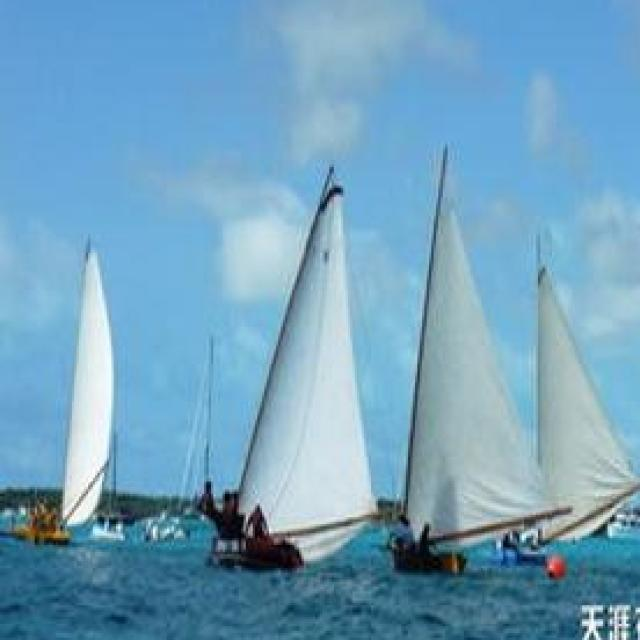sailboat: (392, 143, 556, 573), (222, 173, 381, 562), (512, 237, 640, 568), (18, 235, 112, 546)
